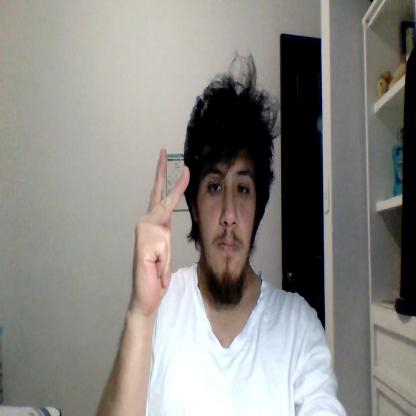P: (132, 148, 190, 314)
